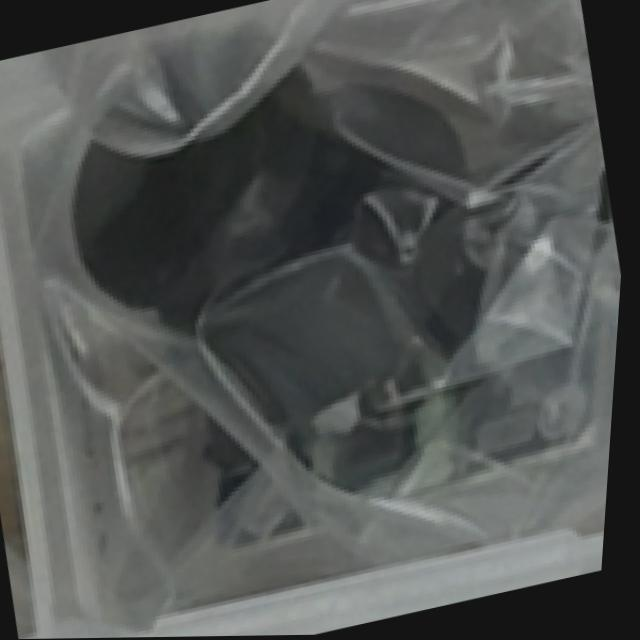Potentiometer: (0, 0, 640, 640)
XY Joystick: (9, 0, 640, 582)
